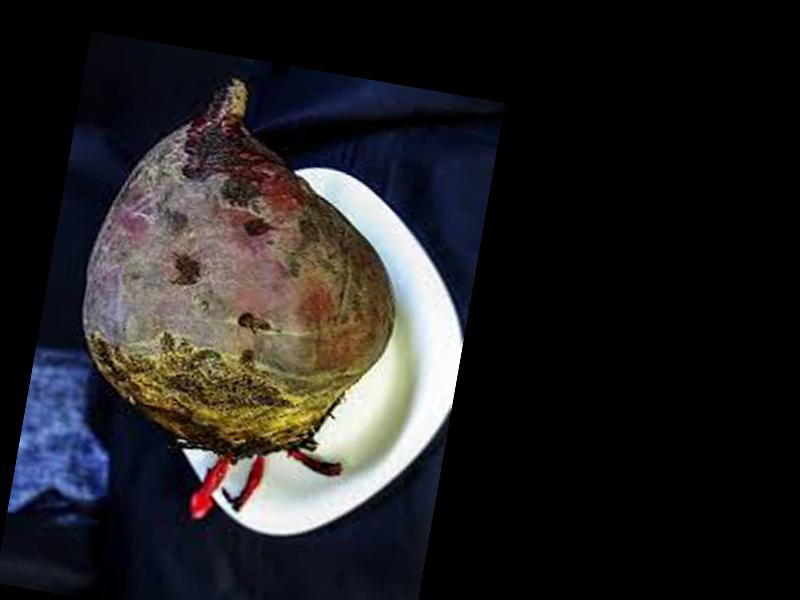Beet: (52, 62, 428, 546)
